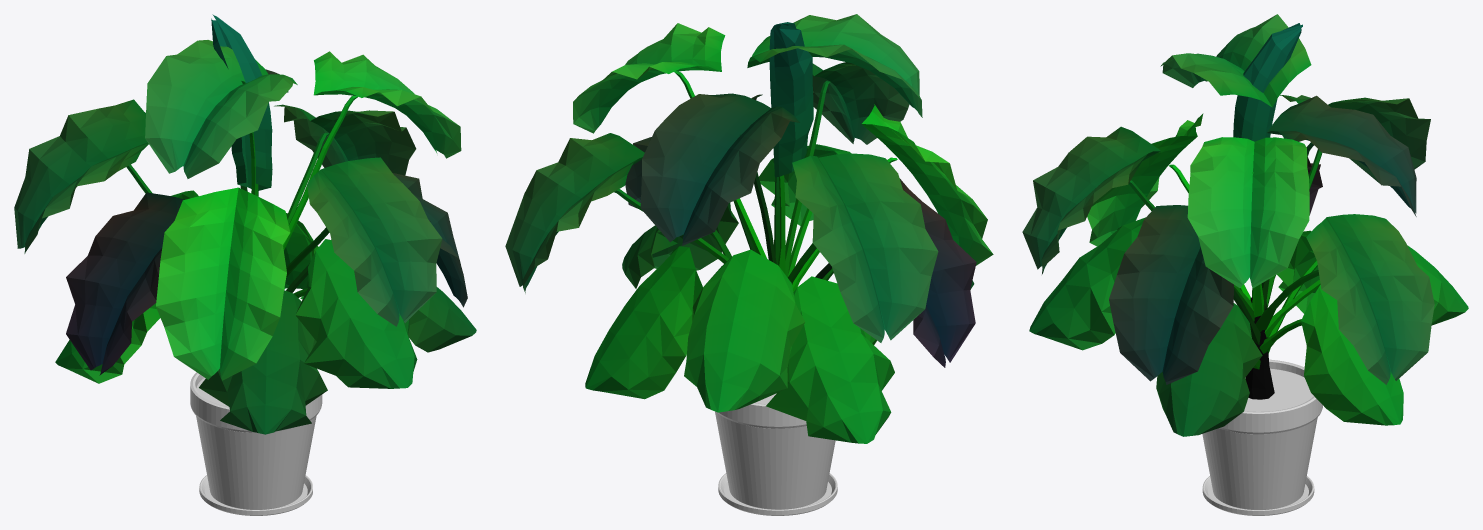
Rendered from mv_PottedPlantA.fbx.
3 renders of one model, left to right at view 1: azimuth 30°, elevation 25°; view 2: azimuth 150°, elevation 25°; view 3: azimuth 270°, elevation 25°, orthographic. The views are drawn at different scales.
Visible parts, largest first — view 1: PottedPlantA_LOD0; view 2: PottedPlantA_LOD0; view 3: PottedPlantA_LOD0.
Boxes of the visible parts, x1,y1,x2,y2 form: PottedPlantA_LOD0: (14, 14, 476, 515); PottedPlantA_LOD0: (505, 14, 993, 515); PottedPlantA_LOD0: (1022, 14, 1468, 515).
Size of what is drawn, in the model's own units: 118 by 136 by 119.
